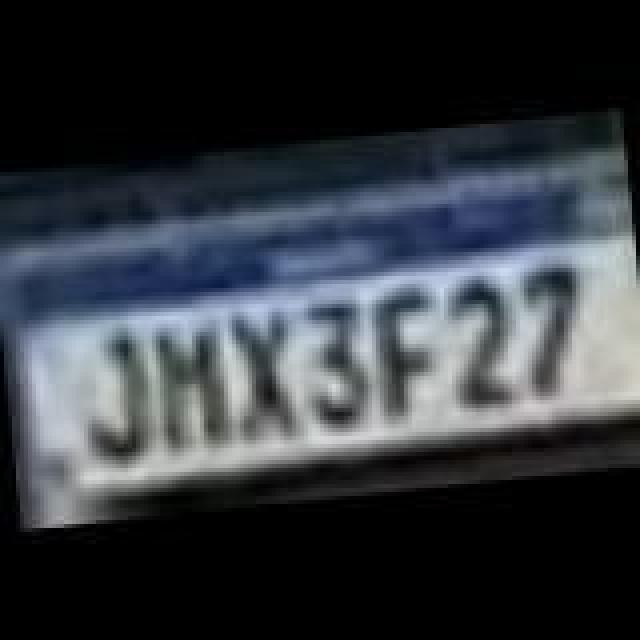2: (442, 278, 518, 410)
3: (298, 294, 374, 426)
7: (514, 262, 590, 402)
F: (372, 284, 444, 420)
J: (72, 332, 152, 468)
M: (142, 318, 226, 458)
X: (222, 308, 306, 444)
